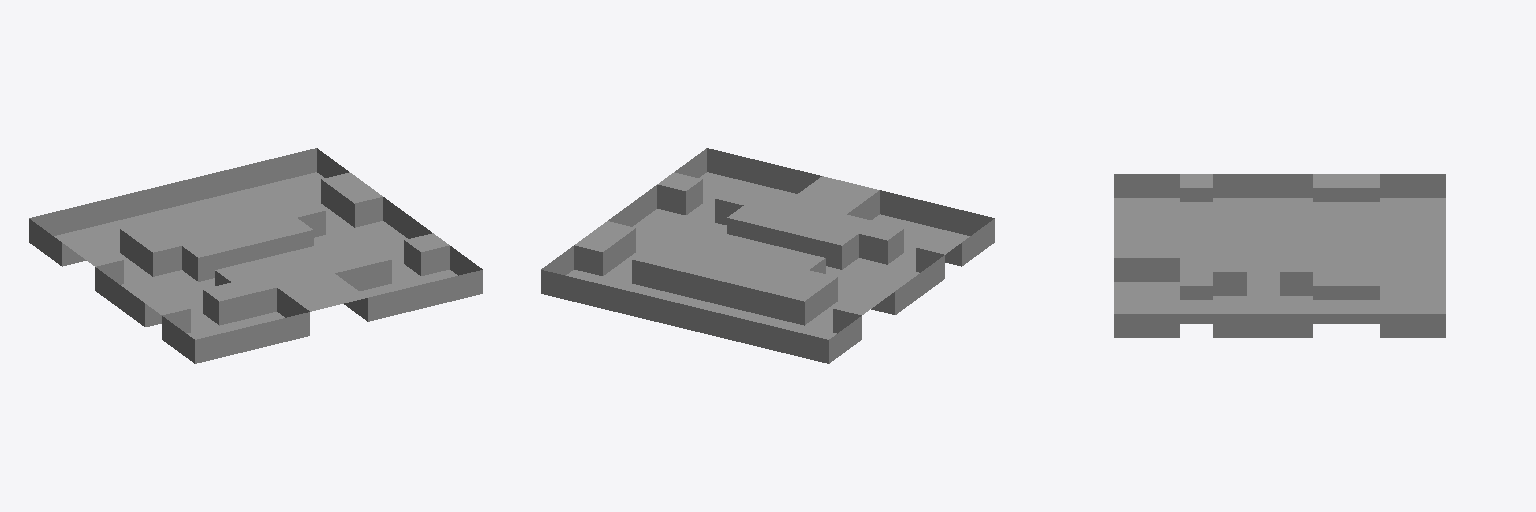
Rendered from level2.obj.
3 views of the same model, side by side, from view 1: azimuth 30°, elevation 25°; view 2: azimuth 150°, elevation 25°; view 3: azimuth 270°, elevation 25° (orthographic).
Parts seen in each view (by area): view 1: Plane; view 2: Plane; view 3: Plane.
Boxes of the visible parts, box(x1,y1,x2,y2) form: Plane: box(29, 148, 482, 363); Plane: box(541, 148, 994, 363); Plane: box(1114, 174, 1445, 337).
Bounding box in the file's own units: 49.95 × 4 × 49.95.